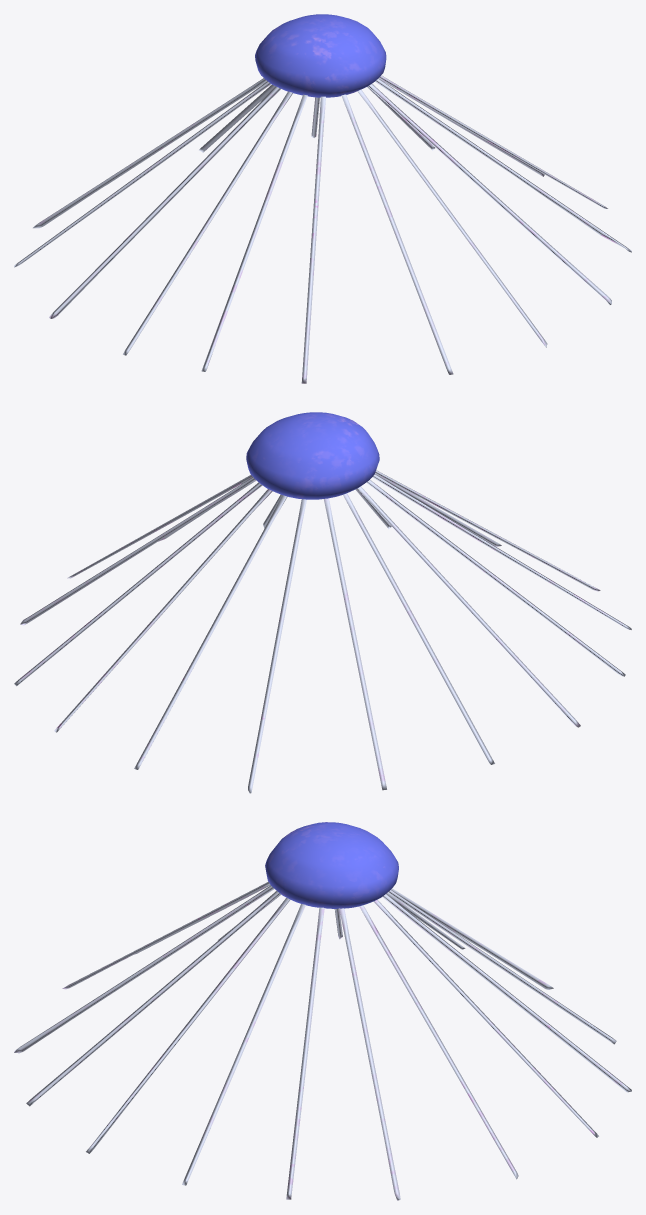
The model's file is dinnerPlateJelly_temp.fbx.
3 renders of one model, top to bottom at view 1: azimuth 30°, elevation 25°; view 2: azimuth 150°, elevation 25°; view 3: azimuth 270°, elevation 25°, orthographic.
Visible parts, largest first — view 1: dinnerPlateJelly_tent.001, dinnerPlateJelly_body.001; view 2: dinnerPlateJelly_tent.001, dinnerPlateJelly_body.001; view 3: dinnerPlateJelly_tent.001, dinnerPlateJelly_body.001.
Part boxes in pixels (x1,y1,x2,y2): dinnerPlateJelly_tent.001: (14, 75, 631, 383); dinnerPlateJelly_body.001: (255, 14, 386, 97); dinnerPlateJelly_tent.001: (14, 470, 631, 793); dinnerPlateJelly_body.001: (246, 412, 379, 499); dinnerPlateJelly_tent.001: (14, 882, 631, 1200); dinnerPlateJelly_body.001: (265, 822, 398, 908).
Size of the model in its own units: 4 by 1.78 by 3.98.
